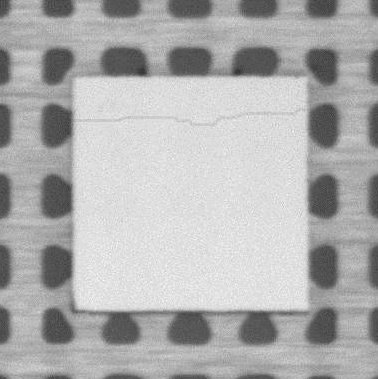DIE_CRACK: (73, 109, 307, 127)
